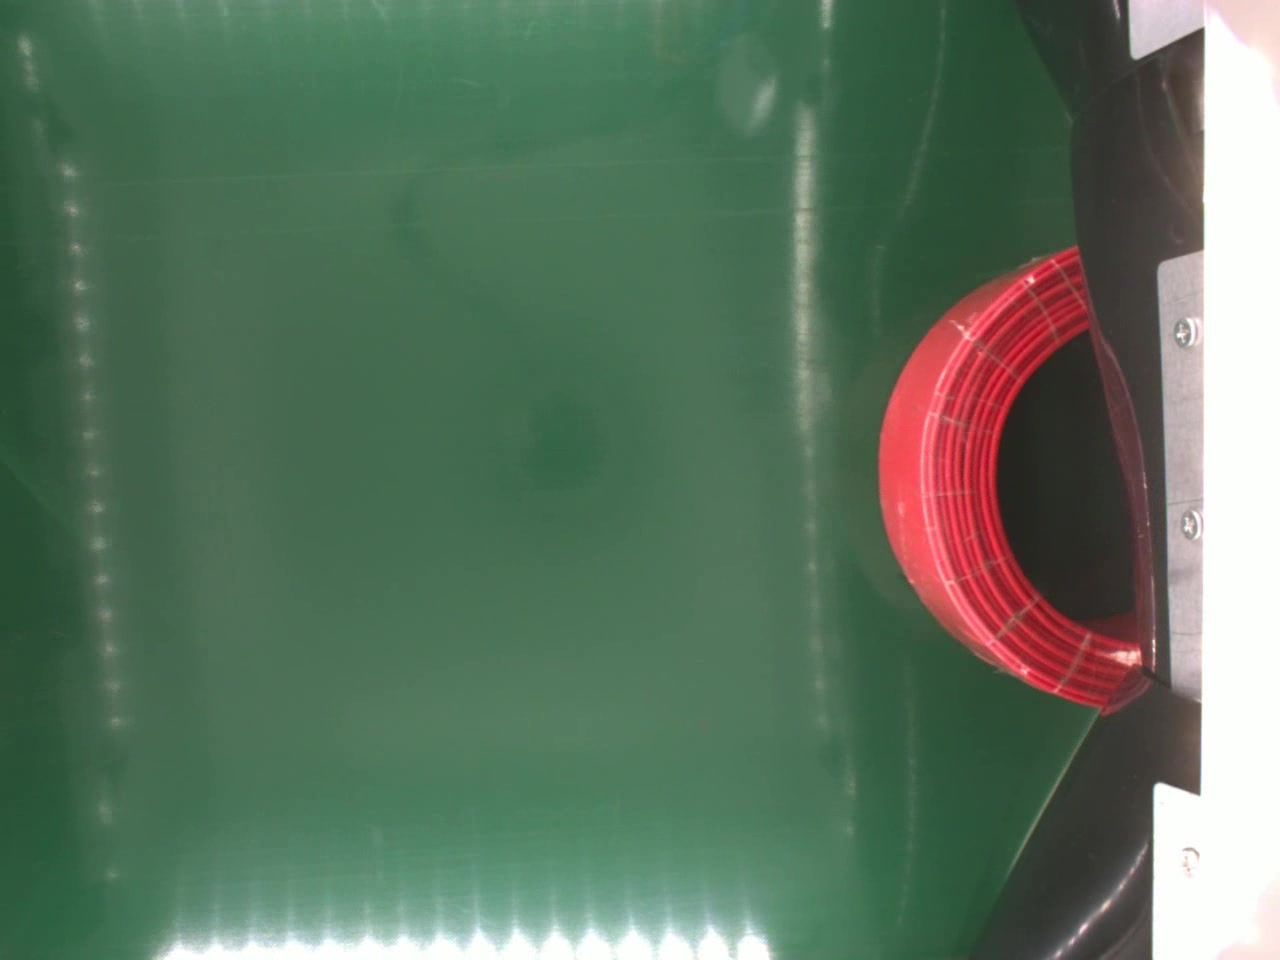red: (871, 241, 1146, 721)
